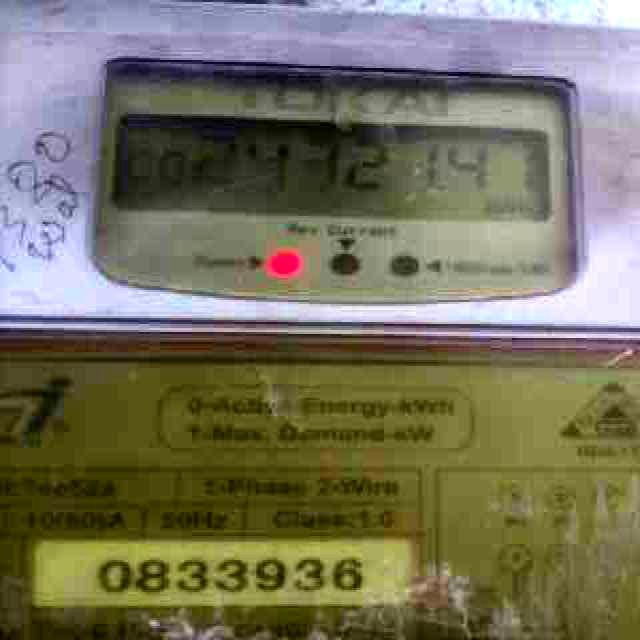LCD: (105, 105, 562, 231)
